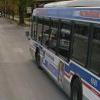Bus: (24, 2, 100, 100)
